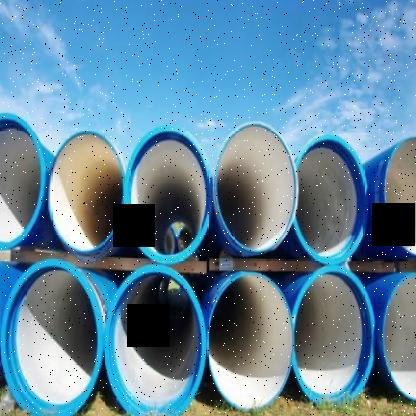pipe: (1, 261, 102, 416), (104, 266, 206, 416), (207, 274, 294, 410), (292, 266, 374, 408), (124, 127, 209, 262), (216, 122, 298, 252), (293, 134, 368, 264), (47, 131, 124, 251), (0, 112, 46, 250), (382, 272, 416, 401), (384, 134, 416, 258)
